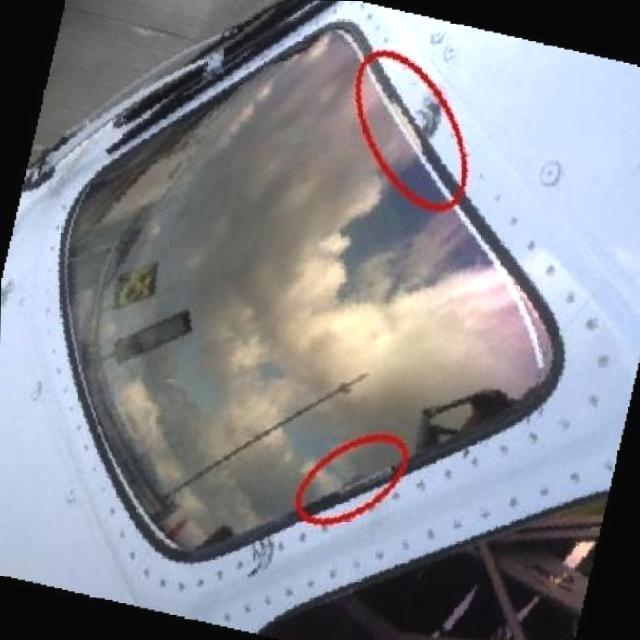crack: (250, 533, 274, 575)
